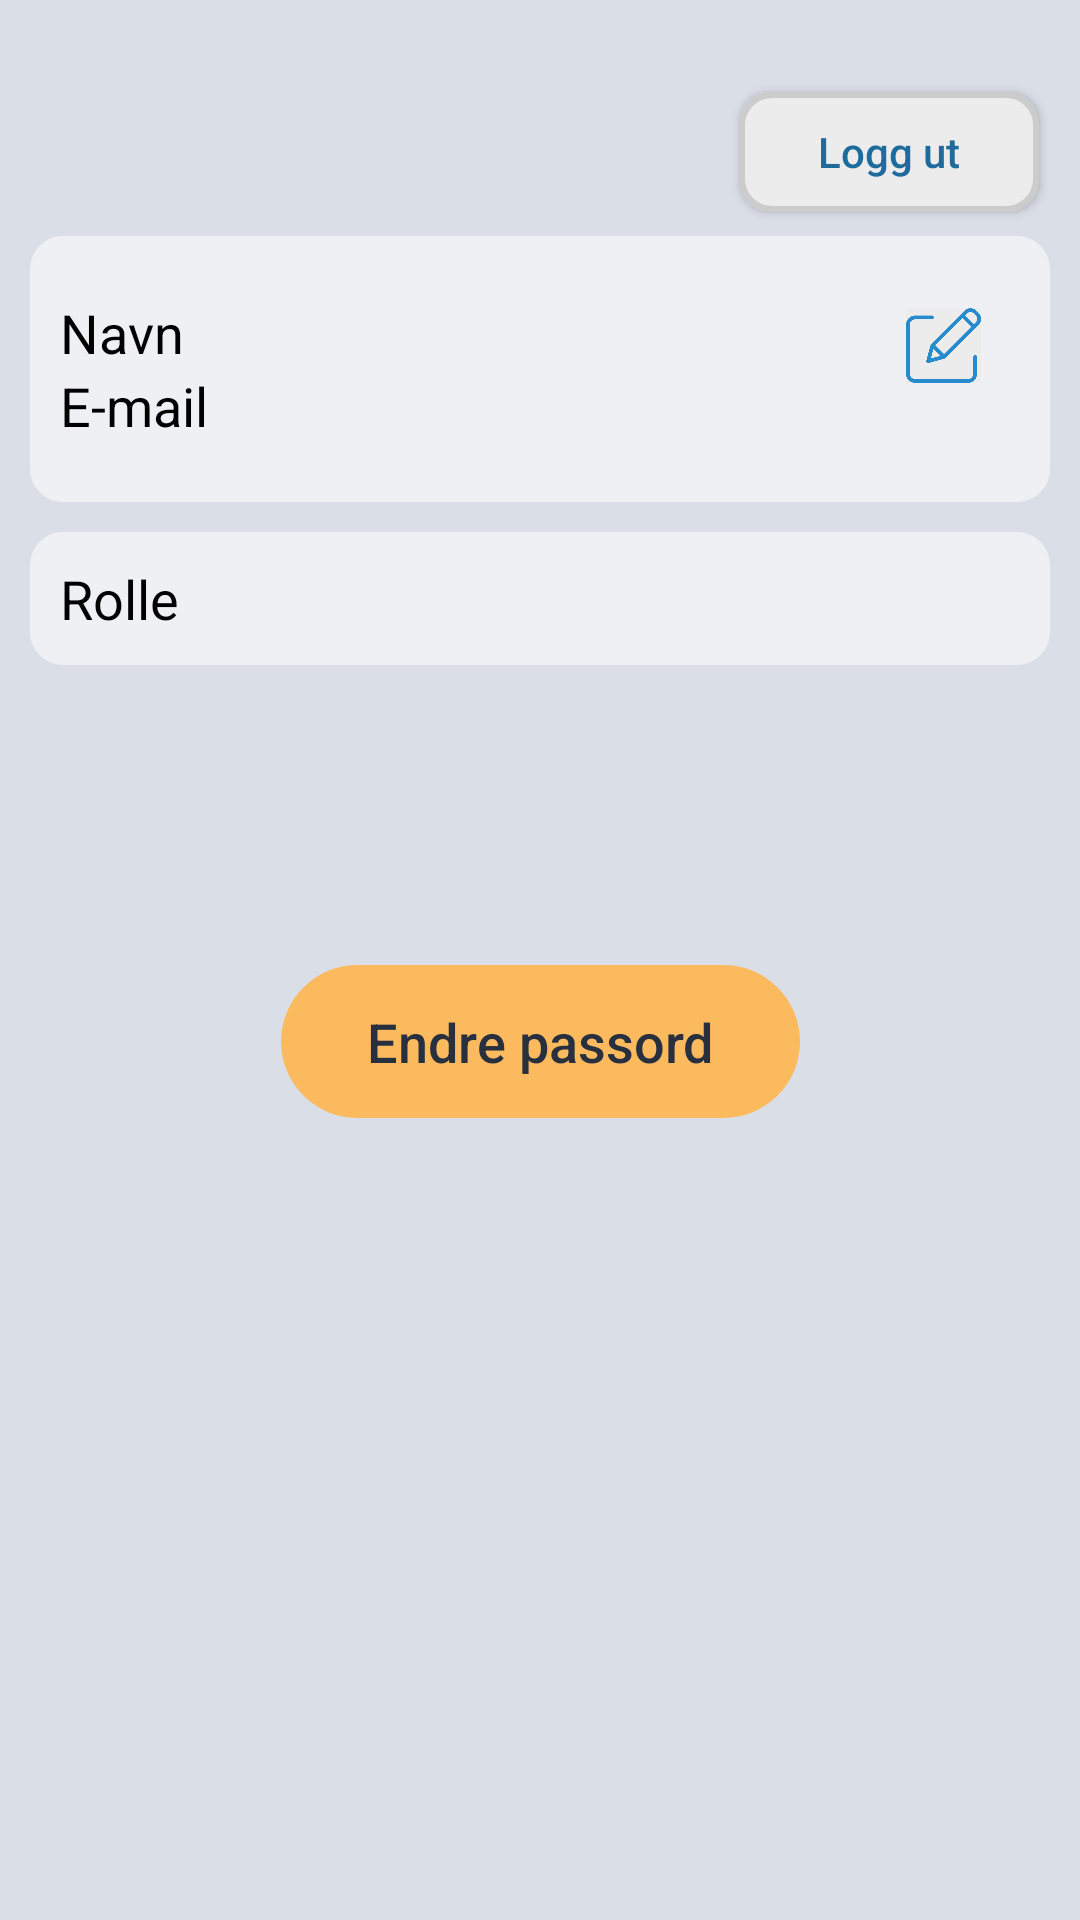

Icon click points for this 1080x1920 phone screenshot, format (x=x, y=y):
Edit button: (x=943, y=345)
